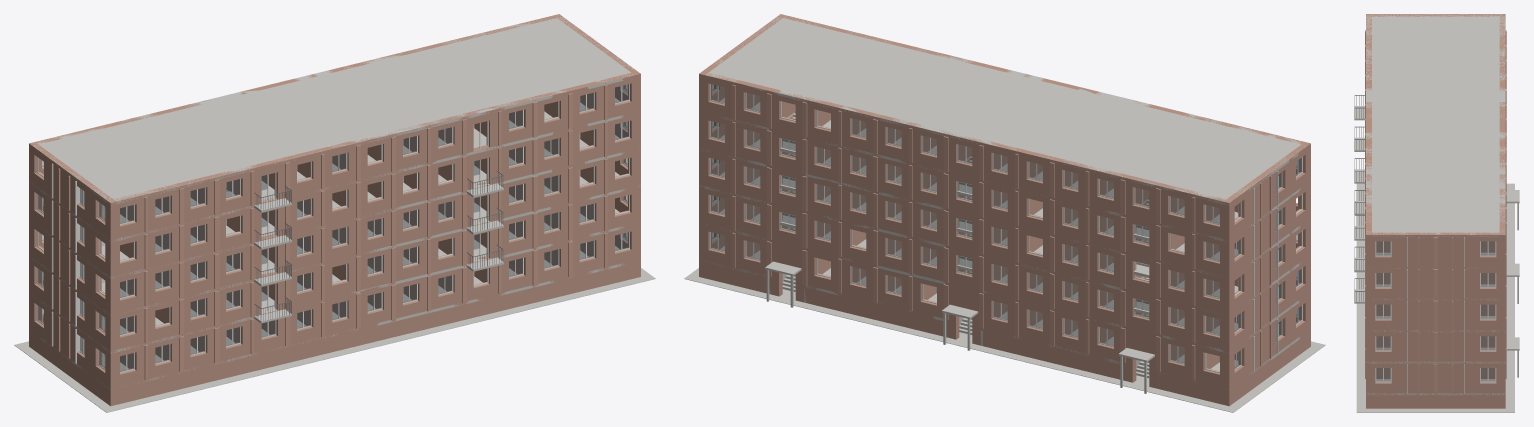
3 views of the same model, side by side, from view 1: azimuth 30°, elevation 25°; view 2: azimuth 150°, elevation 25°; view 3: azimuth 270°, elevation 25° (orthographic). The views are drawn at different scales.
Visible parts, largest first — view 1: b6_slab_f05, b6_outer_f00, b6_outer_f04, b6_outer_f03, b6_outer_f02, b6_outer_f01, b6_wall_brick_f03, b6_wall_brick_f04, b6_wall_brick_f01, b6_wall_brick_f00, b6_wall_brick_f02, b6_apron_f00 (+21 smaller); view 2: b6_slab_f05, b6_outer_f00, b6_outer_f04, b6_outer_f02, b6_outer_f03, b6_outer_f01, b6_wall_brick_f04, b6_wall_brick_f03, b6_wall_brick_f02, b6_wall_brick_f01, b6_apron_f00, b6_wall_brick_f00 (+20 smaller); view 3: b6_slab_f05, b6_outer_f04, b6_outer_f00, b6_outer_f02, b6_apron_f00, b6_outer_f03, b6_outer_f01, b6_wall_brick_f04, b6_canopy_f00, b6_wall_brick_f02, b6_wall_brick_f01, b6_wall_brick_f03 (+20 smaller).
Part boxes in pixels (x1,y1,x2,y2): b6_slab_f05: [31, 15, 636, 204]; b6_outer_f00: [29, 224, 640, 406]; b6_outer_f04: [29, 14, 640, 242]; b6_outer_f03: [29, 113, 640, 279]; b6_outer_f02: [29, 150, 640, 316]; b6_outer_f01: [29, 187, 640, 353]; b6_wall_brick_f03: [58, 122, 607, 269]; b6_wall_brick_f04: [58, 85, 607, 232]; b6_wall_brick_f01: [58, 196, 607, 343]; b6_wall_brick_f00: [58, 233, 607, 380]; b6_wall_brick_f02: [58, 159, 607, 306]; b6_apron_f00: [14, 268, 655, 412]; b6_slab_f05: [699, 14, 1304, 205]; b6_outer_f00: [699, 224, 1310, 406]; b6_outer_f04: [699, 14, 1310, 242]; b6_outer_f02: [699, 150, 1310, 316]; b6_outer_f03: [699, 113, 1310, 279]; b6_outer_f01: [699, 187, 1310, 353]; b6_wall_brick_f04: [732, 85, 1271, 232]; b6_wall_brick_f03: [732, 112, 1271, 269]; b6_wall_brick_f02: [732, 153, 1271, 306]; b6_wall_brick_f01: [732, 190, 1271, 343]; b6_apron_f00: [684, 268, 1325, 412]; b6_wall_brick_f00: [732, 227, 1271, 380]; b6_slab_f05: [1366, 14, 1505, 237]; b6_outer_f04: [1366, 14, 1505, 268]; b6_outer_f00: [1366, 364, 1505, 408]; b6_outer_f02: [1366, 300, 1505, 332]; b6_apron_f00: [1356, 183, 1514, 412]; b6_outer_f03: [1366, 269, 1505, 300]; b6_outer_f01: [1366, 332, 1505, 363]; b6_wall_brick_f04: [1365, 30, 1506, 267]; b6_canopy_f00: [1506, 190, 1519, 377]; b6_wall_brick_f02: [1365, 284, 1506, 330]; b6_wall_brick_f01: [1365, 316, 1506, 361]; b6_wall_brick_f03: [1365, 252, 1506, 298].
Bounding box in the file's own units: 46.6 × 16.72 × 14.2.
